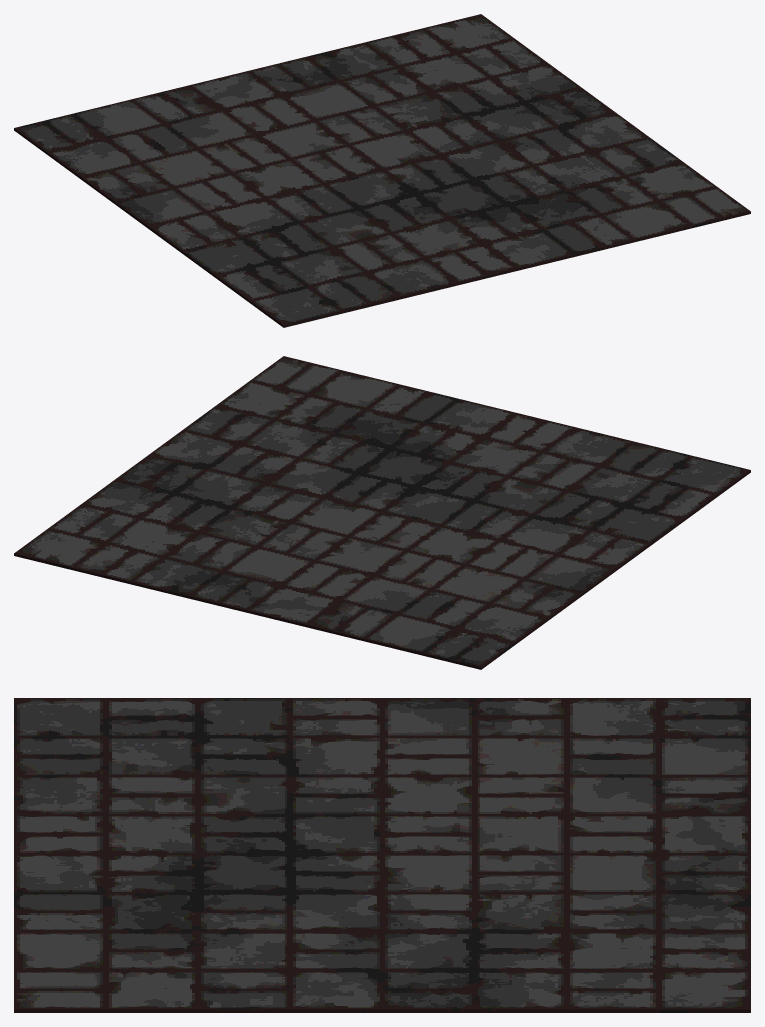
File: floor_tiles_01.gltf
3 views of the same model, one above another, from view 1: azimuth 30°, elevation 25°; view 2: azimuth 150°, elevation 25°; view 3: azimuth 270°, elevation 25° (orthographic). The views are drawn at different scales.
Parts seen in each view (by area): view 1: floor_tiles_01; view 2: floor_tiles_01; view 3: floor_tiles_01.
Part boxes in pixels (x1,y1,x2,y2): floor_tiles_01: (14,14,750,327); floor_tiles_01: (14,356,750,669); floor_tiles_01: (14,698,750,1012).
Size of the model in its own units: 4 by 0.02 by 4.
Materials: 1 (1 with a texture image).
